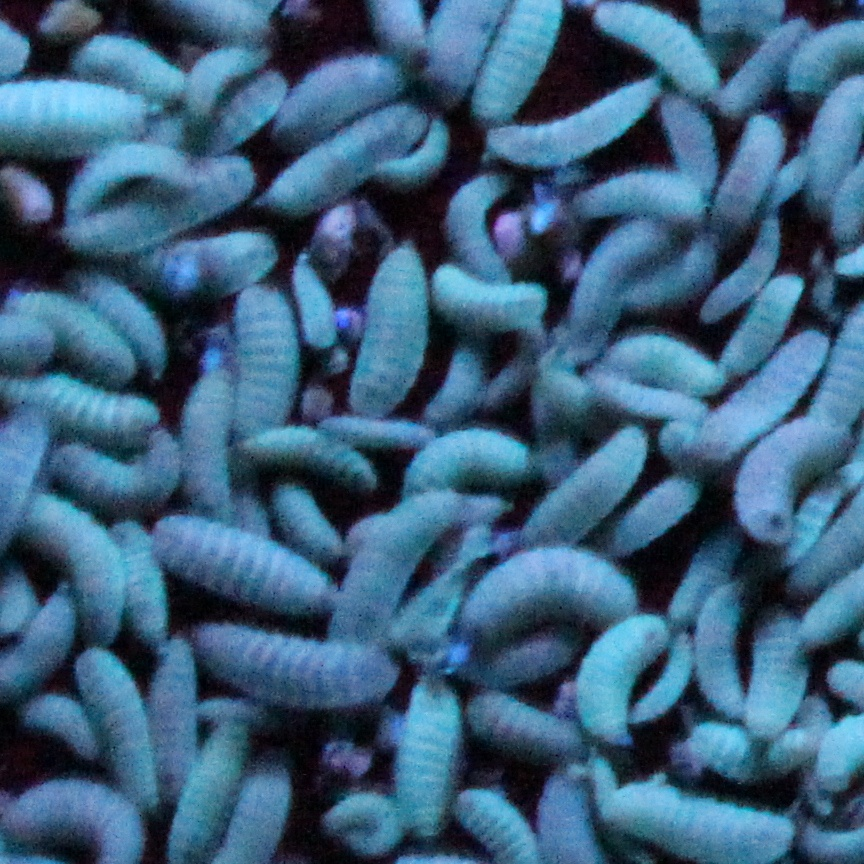larve: (670, 332, 824, 460), (156, 511, 327, 611), (334, 492, 458, 629), (269, 112, 426, 212), (64, 166, 245, 252), (203, 626, 395, 703), (528, 432, 653, 550), (26, 483, 119, 641), (607, 781, 788, 861), (487, 80, 658, 162), (348, 246, 427, 418), (739, 420, 852, 531), (275, 50, 406, 141), (460, 552, 644, 614), (598, 0, 712, 94), (79, 649, 154, 788), (578, 623, 667, 740), (232, 429, 376, 495), (402, 428, 531, 500), (63, 430, 178, 510), (399, 677, 456, 838), (17, 297, 131, 376), (233, 291, 295, 431), (115, 232, 275, 286), (571, 224, 653, 329), (710, 115, 781, 232), (717, 23, 803, 116), (434, 260, 542, 333), (148, 642, 196, 799), (71, 152, 195, 211), (595, 332, 717, 390), (701, 233, 784, 318), (731, 275, 802, 374), (183, 372, 229, 519), (695, 579, 744, 716), (81, 275, 159, 360), (749, 613, 804, 733), (473, 696, 584, 755), (617, 470, 701, 545), (665, 530, 741, 611), (453, 636, 581, 683), (179, 52, 264, 122), (574, 174, 708, 218), (215, 65, 281, 152), (121, 517, 165, 644), (80, 45, 182, 99), (659, 96, 723, 180), (584, 374, 707, 417), (626, 253, 717, 311), (448, 184, 510, 268), (280, 260, 336, 352), (322, 790, 398, 852), (311, 417, 434, 454), (23, 690, 93, 755), (688, 725, 761, 785), (636, 637, 691, 716), (277, 490, 336, 561), (428, 353, 484, 415), (384, 122, 439, 185), (490, 352, 531, 408), (771, 147, 803, 208)
